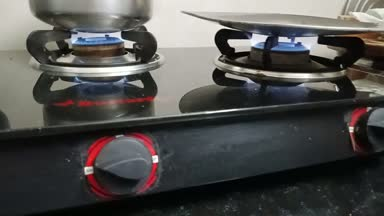flame_gas_on: (53, 27, 154, 192), (229, 31, 342, 79)
